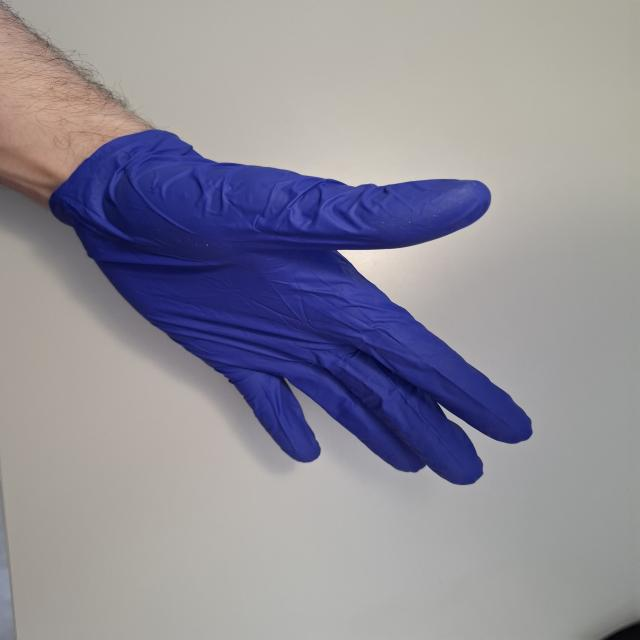glove_on: (52, 128, 538, 490)
